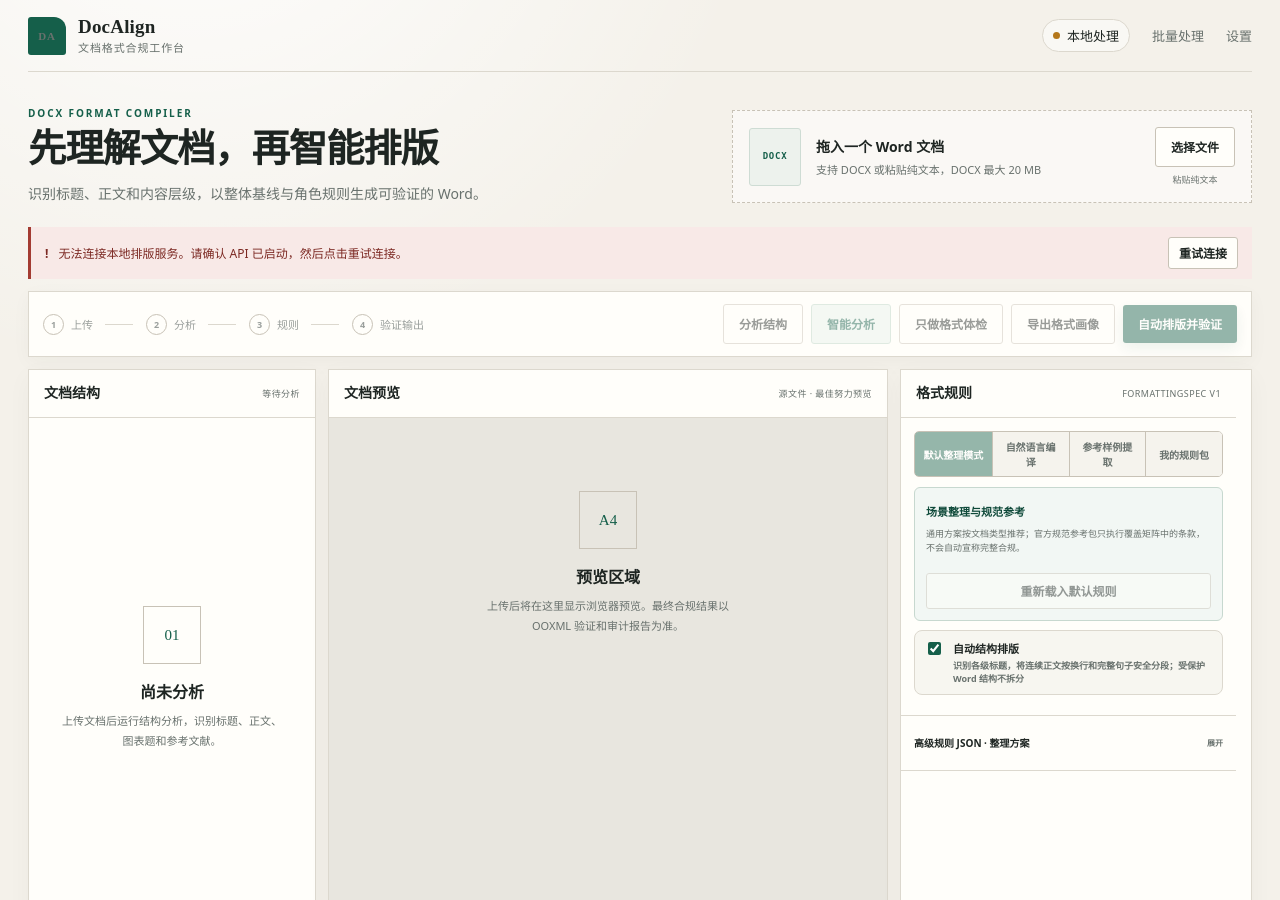
Scenario: Workspace › clears a stale connection error after a successful retry
Expected: the text "无法连接本地排版服务。请确认 API 已启动，然后点击重试连接。" is shown, [58,245,408,262]
Step 1. Click the button "重试连接" → (1203, 253), box [1168,237,1238,269]
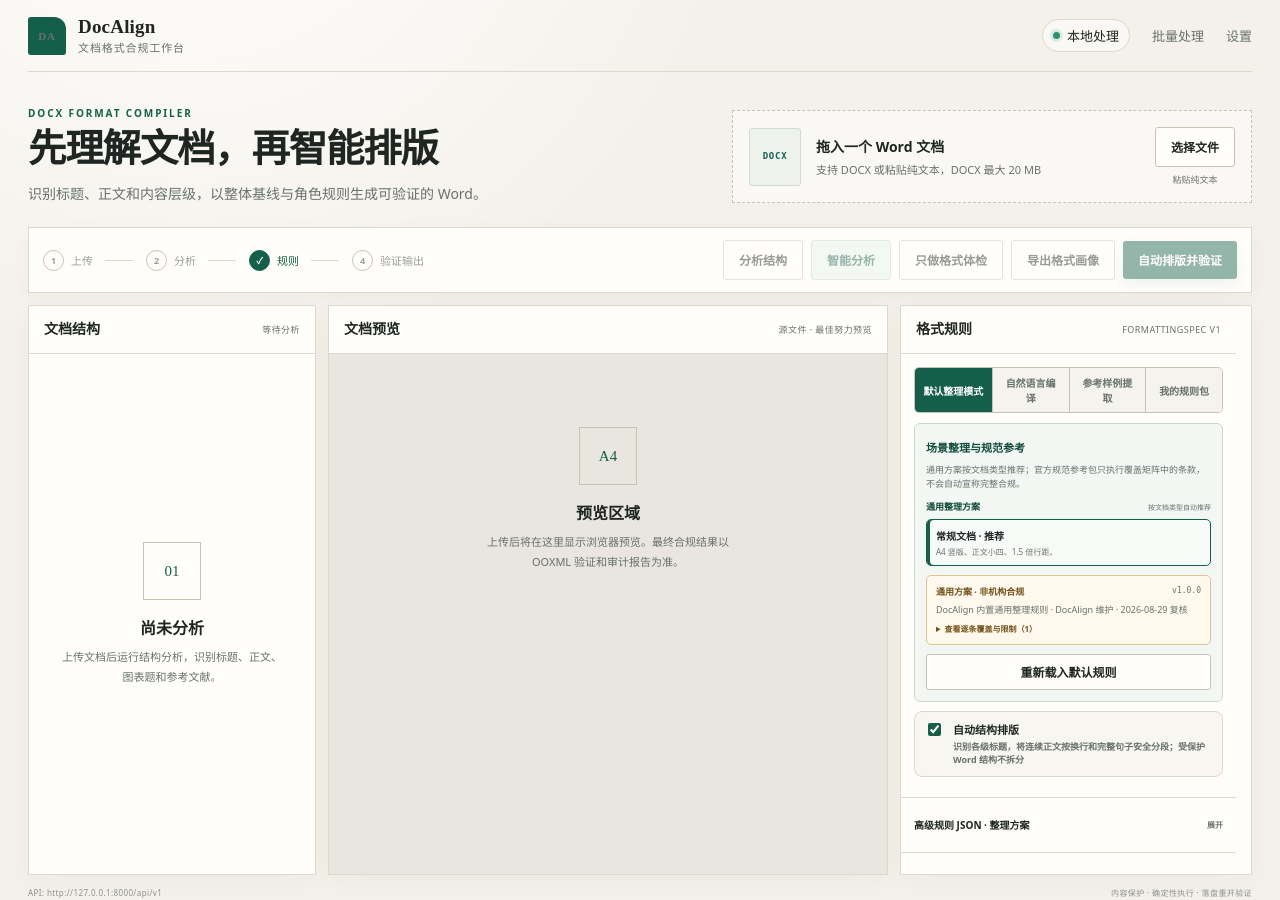
Expected: the text "本地处理" is shown, [1042,19,1130,52]
Now the text "无法连接本地排版服务。请确认 API 已启动，然后点击重试连接。" is gone
